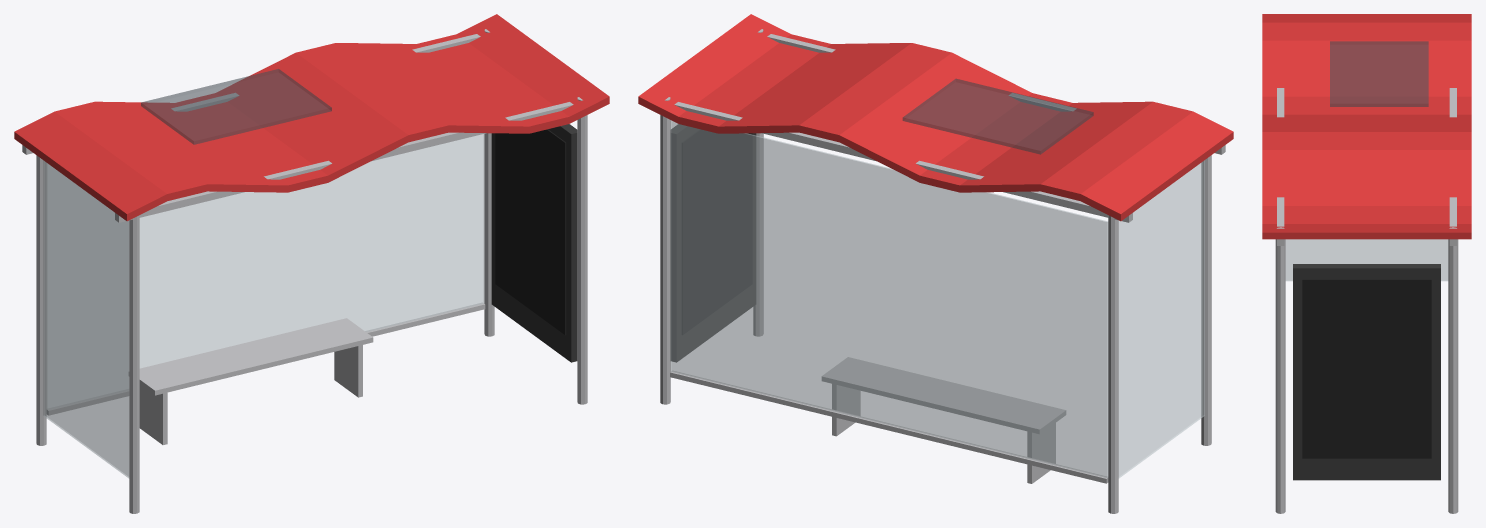
Rendered from bus_shelter_sfmta.glb.
3 views of the same model, side by side, from view 1: azimuth 30°, elevation 25°; view 2: azimuth 150°, elevation 25°; view 3: azimuth 270°, elevation 25° (orthographic). The views are drawn at different scales.
Visible parts, largest first — view 1: bus_shelter_sfmta, screen; view 2: bus_shelter_sfmta, screen; view 3: bus_shelter_sfmta, screen.
Boxes of the visible parts, left/top/right/bottom form: bus_shelter_sfmta: left=14, top=14, right=609, bottom=513; screen: left=495, top=129, right=566, bottom=335; bus_shelter_sfmta: left=638, top=14, right=1233, bottom=513; screen: left=682, top=129, right=752, bottom=334; bus_shelter_sfmta: left=1262, top=14, right=1471, bottom=513; screen: left=1302, top=279, right=1431, bottom=458.
Size of the model in its own units: 4.2 by 2.75 by 1.7.
